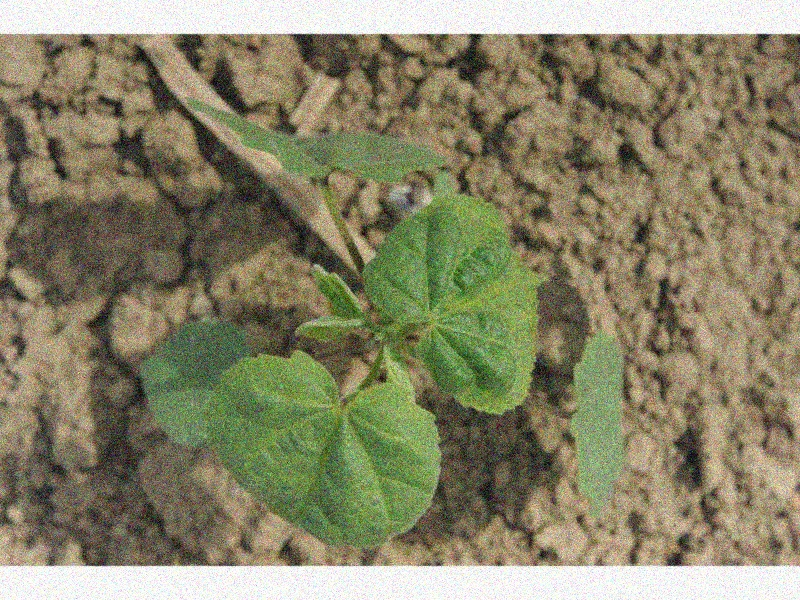velvet: (141, 96, 626, 545)
